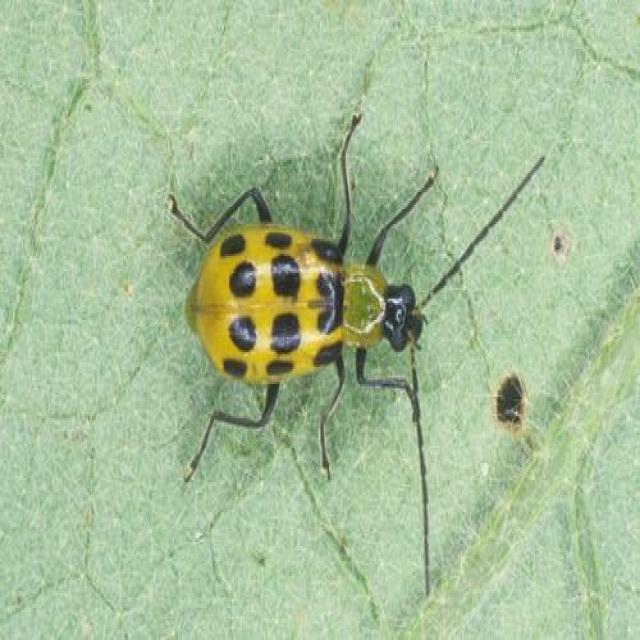gusano_verde: (167, 105, 546, 560)
